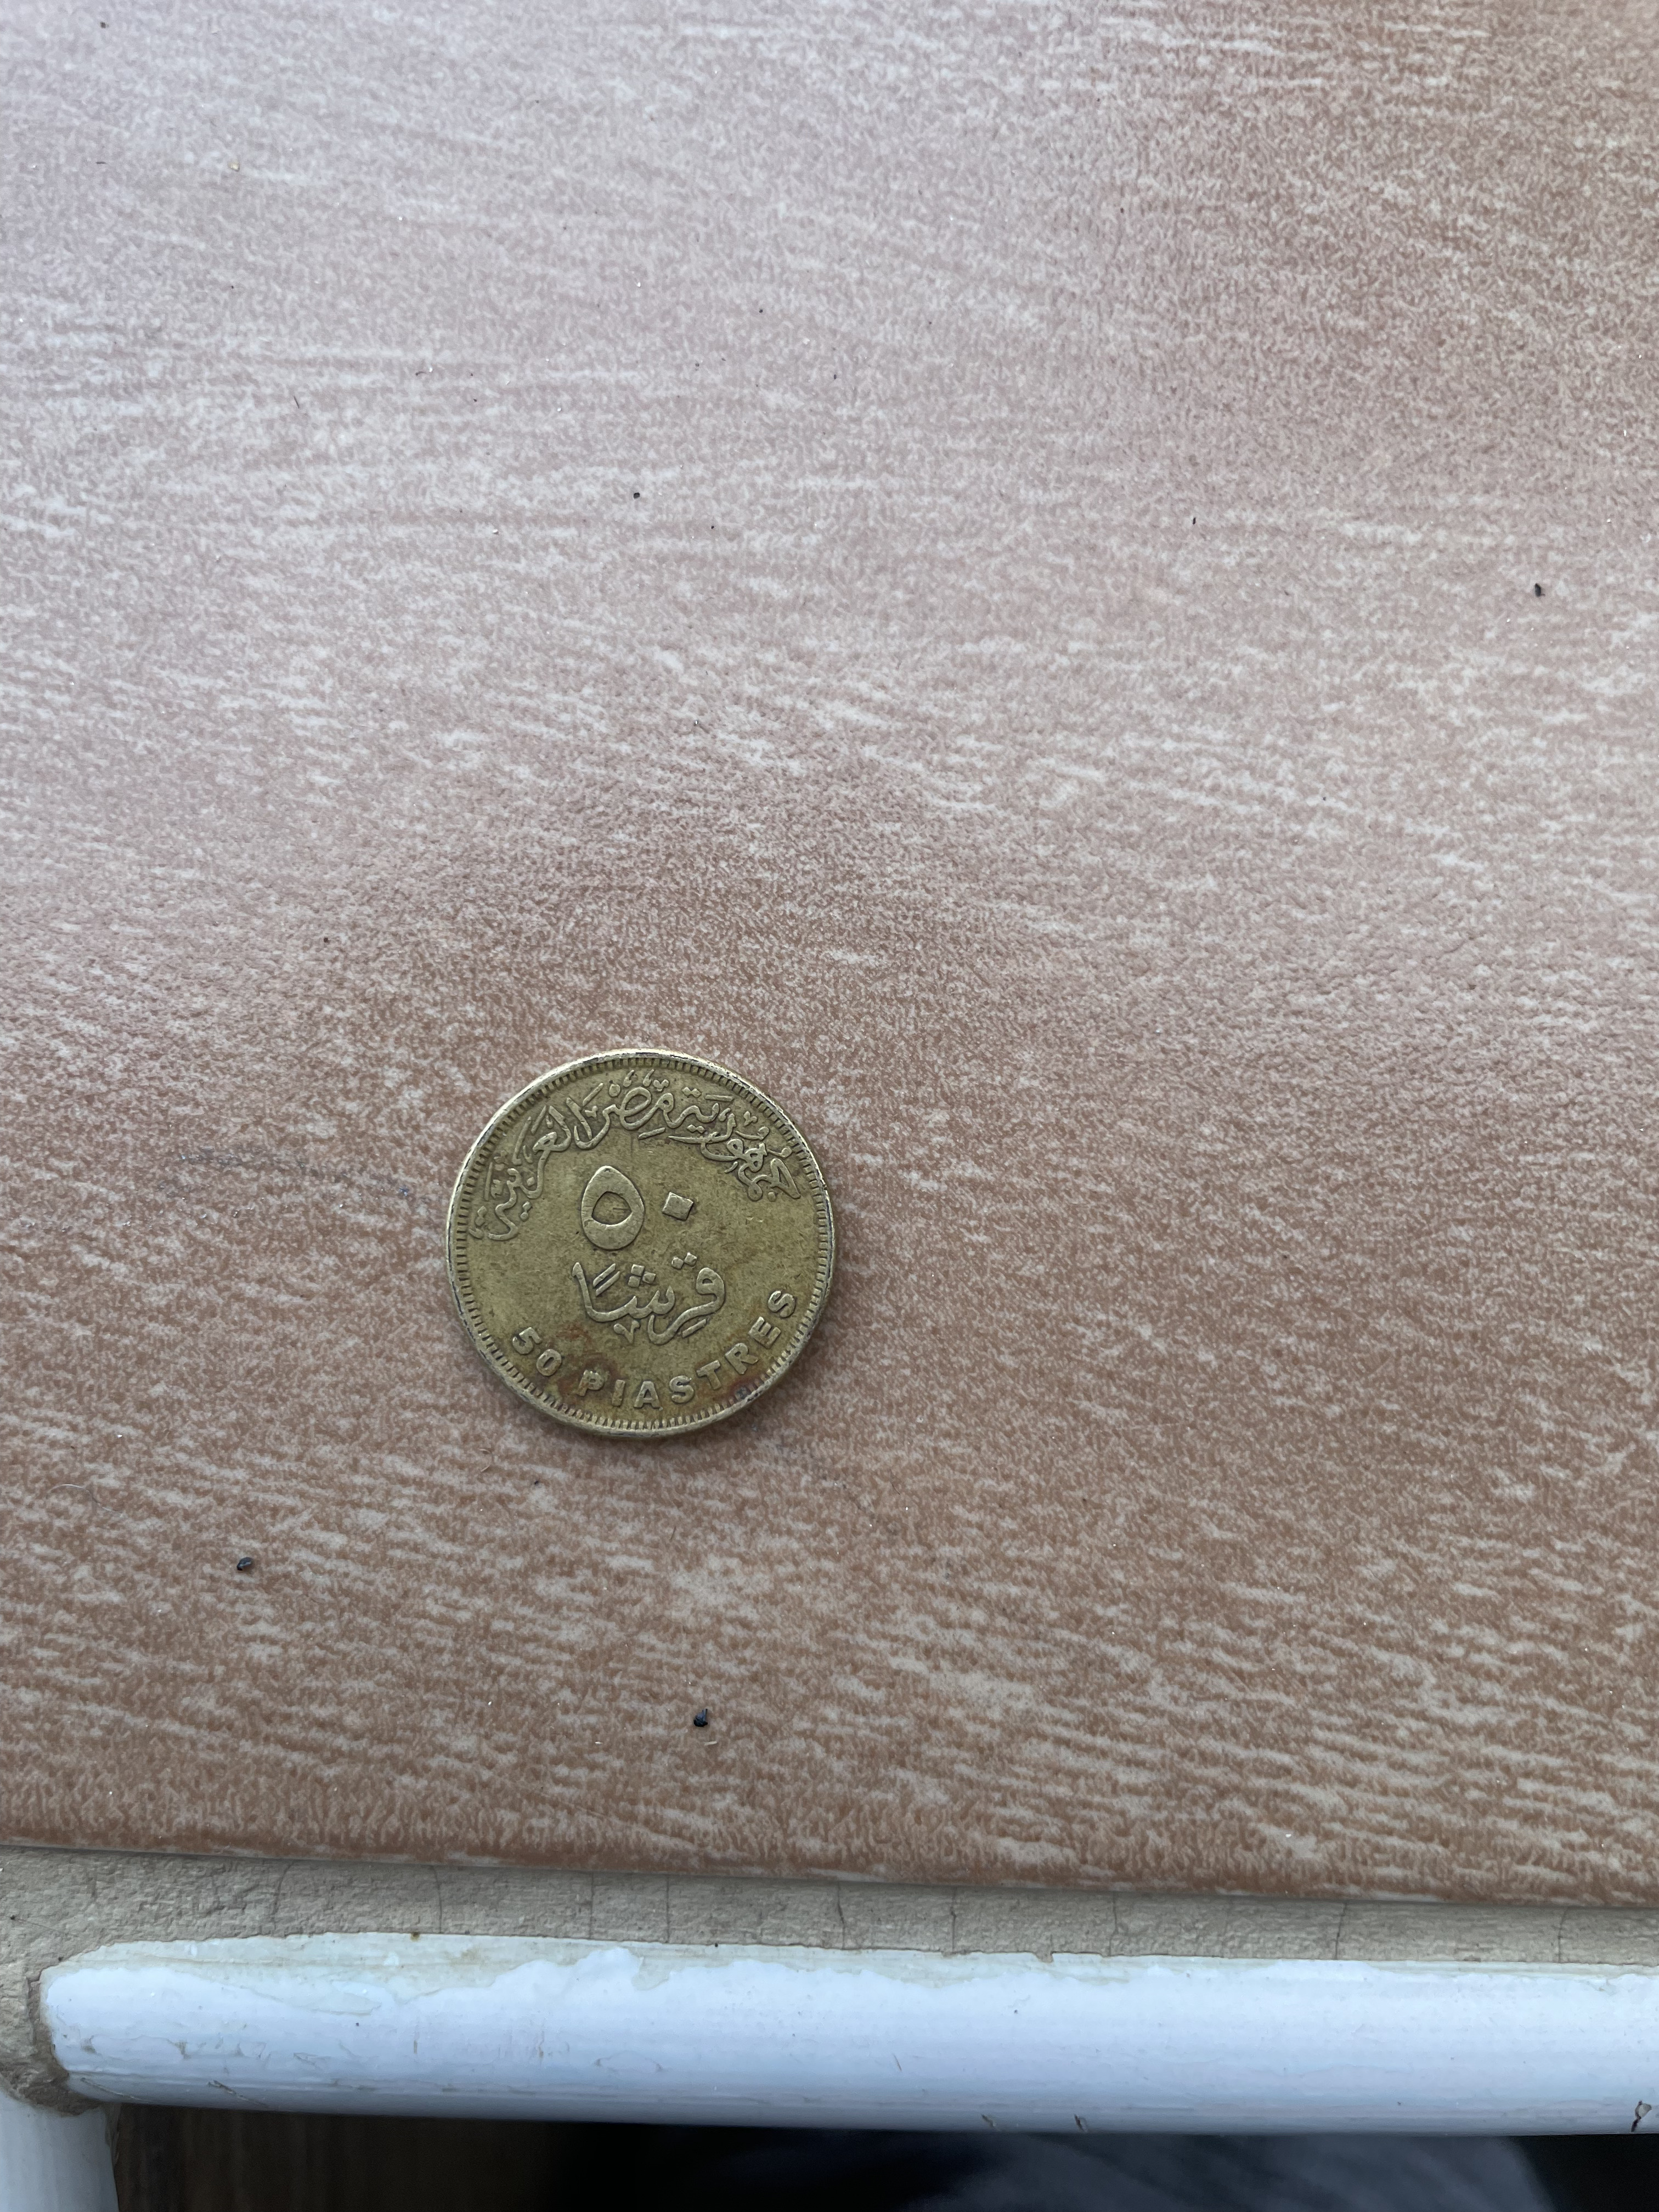half: (443, 1035, 843, 1442)
